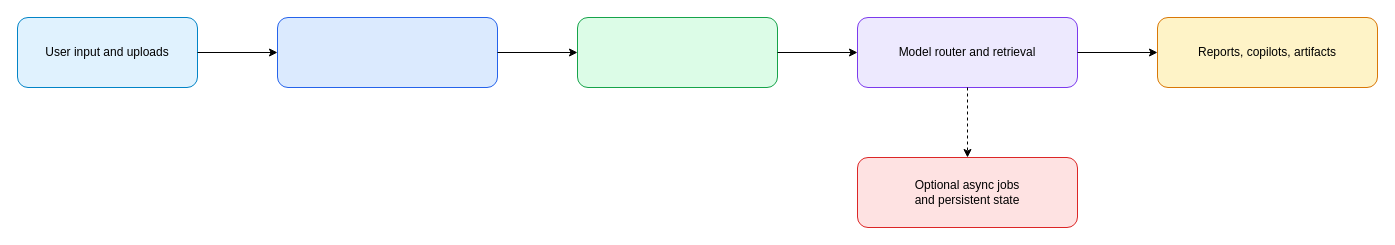
Some shapes in this 1395 by 245 pixel diagram are drawn without their labels. The centre of each missing label's shape, as x and y in pixels:
Frontend and backend service: (x=387, y=52)
Validation and analytics: (x=677, y=52)
